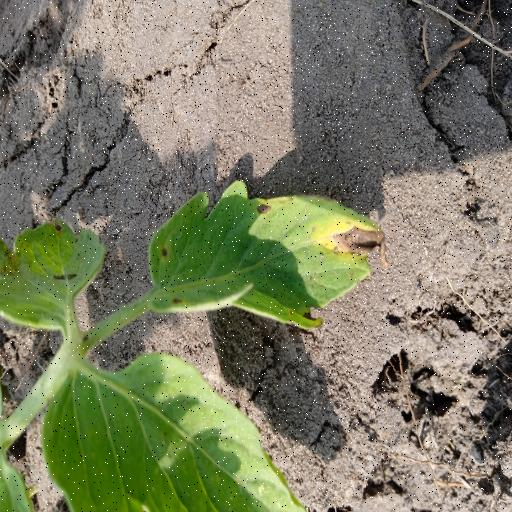Tomato_Brown_Spots: (35, 353, 301, 512), (146, 176, 390, 334), (0, 213, 111, 335)
